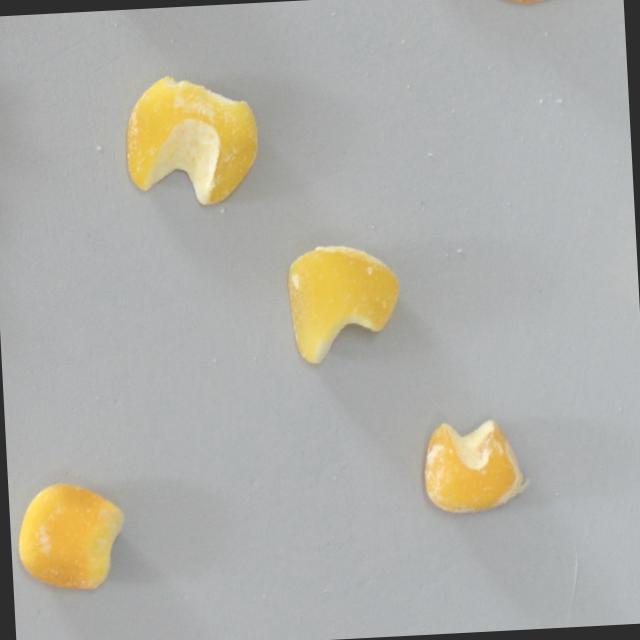pelicula: (123, 71, 264, 210), (286, 241, 406, 366), (15, 478, 131, 594), (421, 417, 533, 514), (477, 0, 573, 8)
